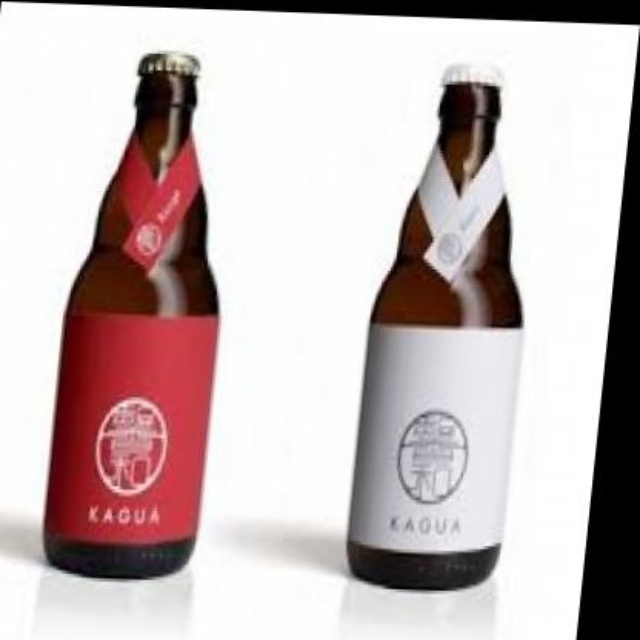trash: (348, 66, 522, 588), (45, 54, 217, 577)
